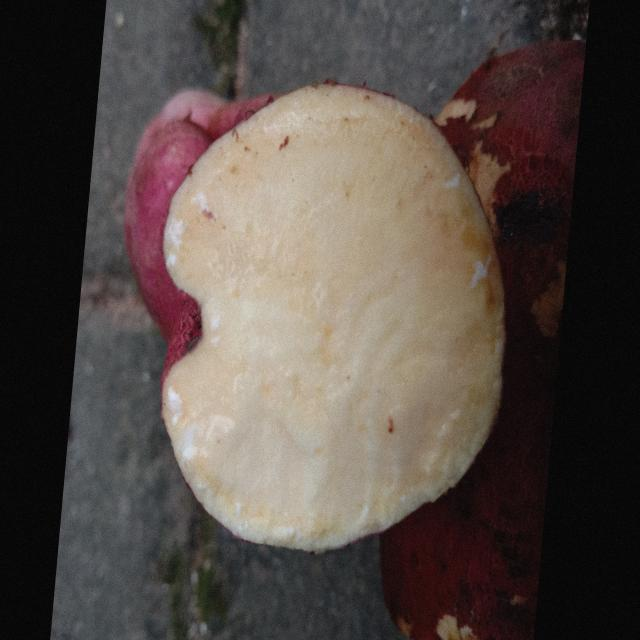Healthy Sweet Potato: (162, 85, 504, 552)
